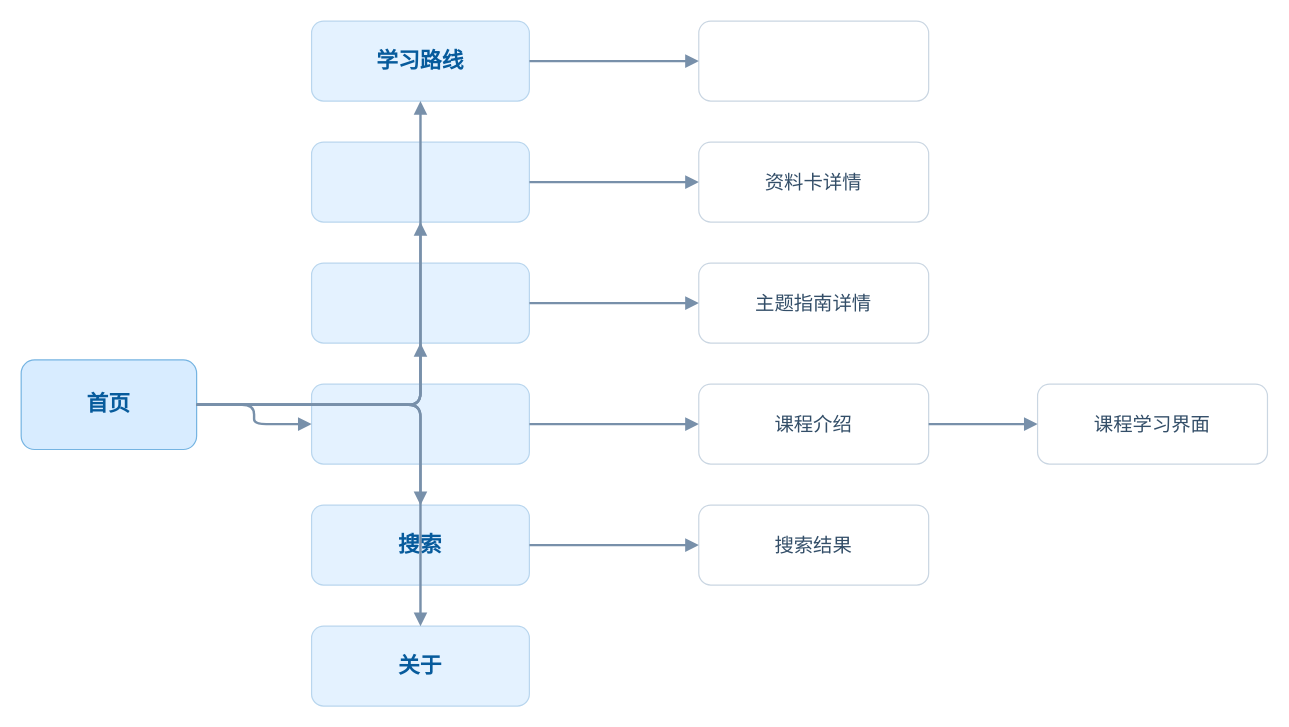
This 1289x727 diagram has some shape labels left out. The box of each missing label's shape, as (x1, y1, x2, y2) in pixels:
主题指南: (310, 262, 529, 343)
课程: (310, 383, 529, 464)
资料库: (310, 141, 529, 222)
路线详情: (698, 20, 929, 101)
